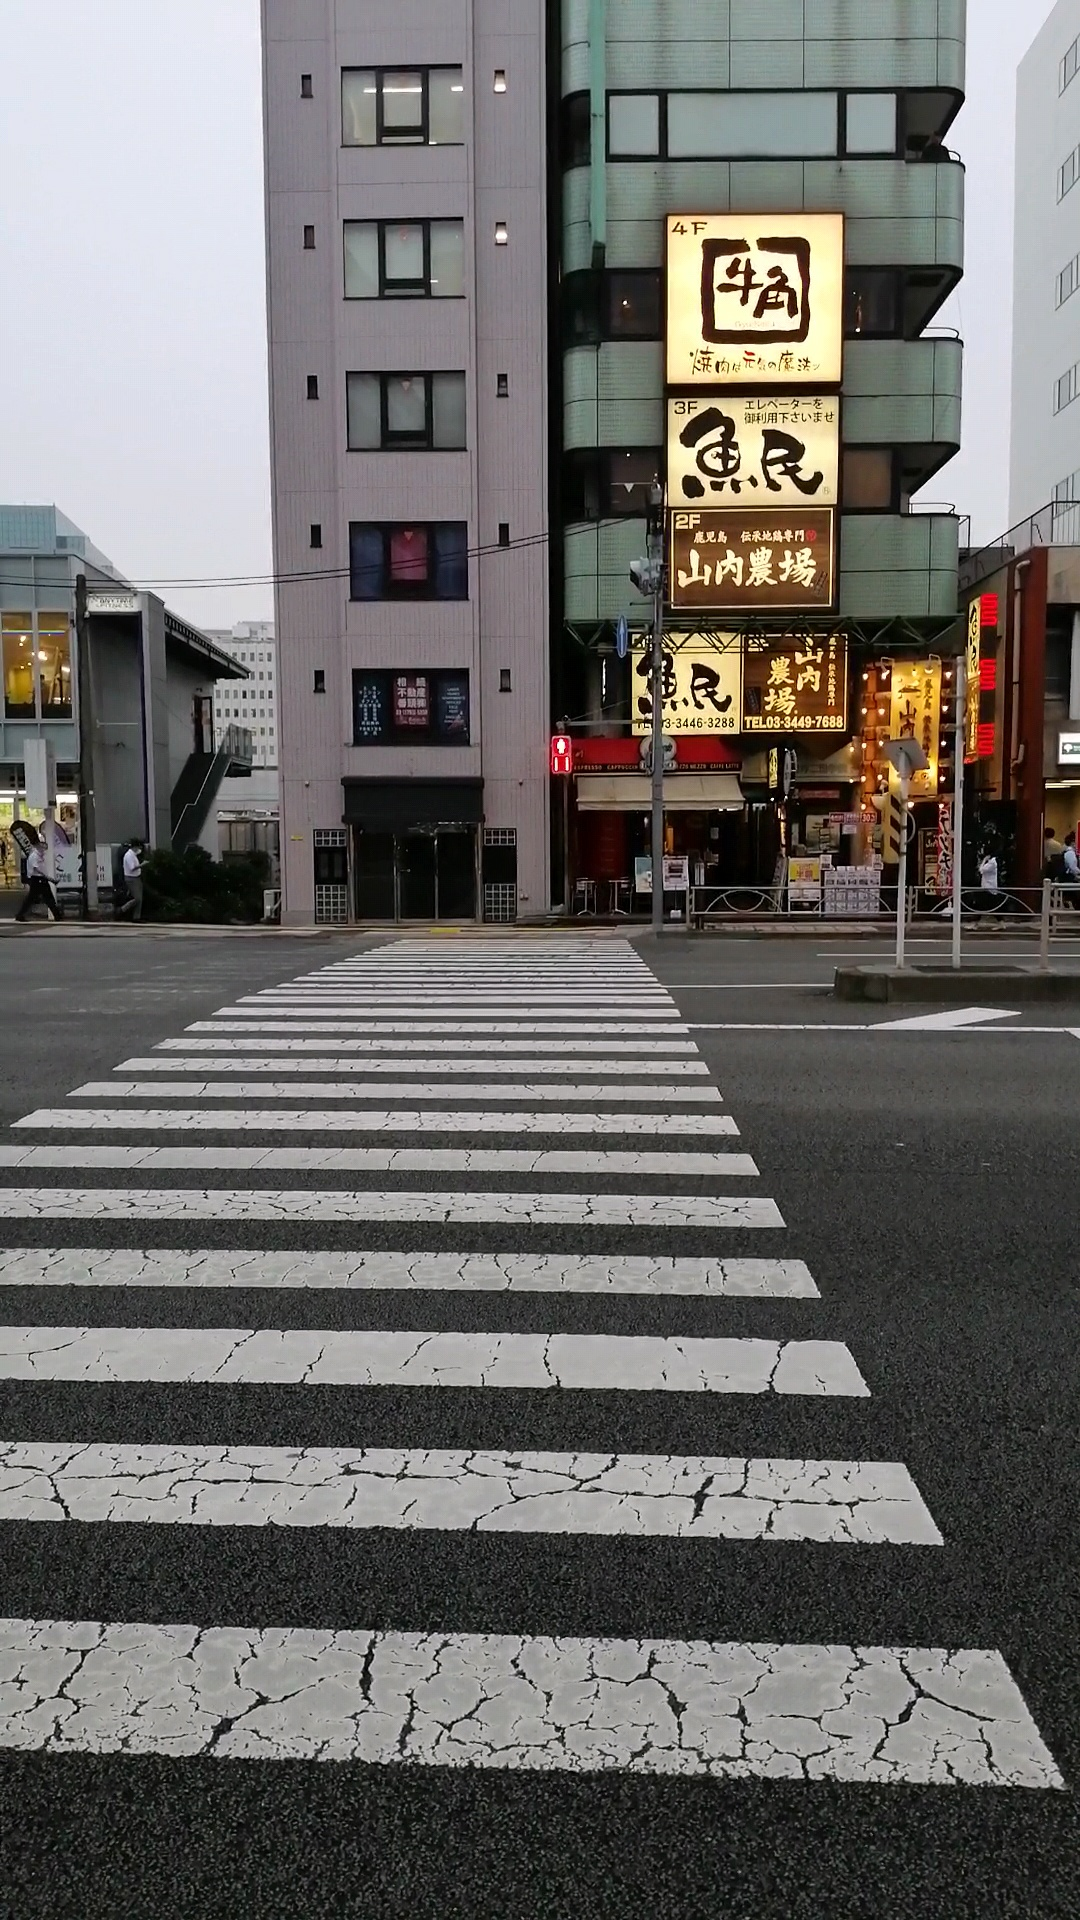red: (549, 735, 571, 775)
